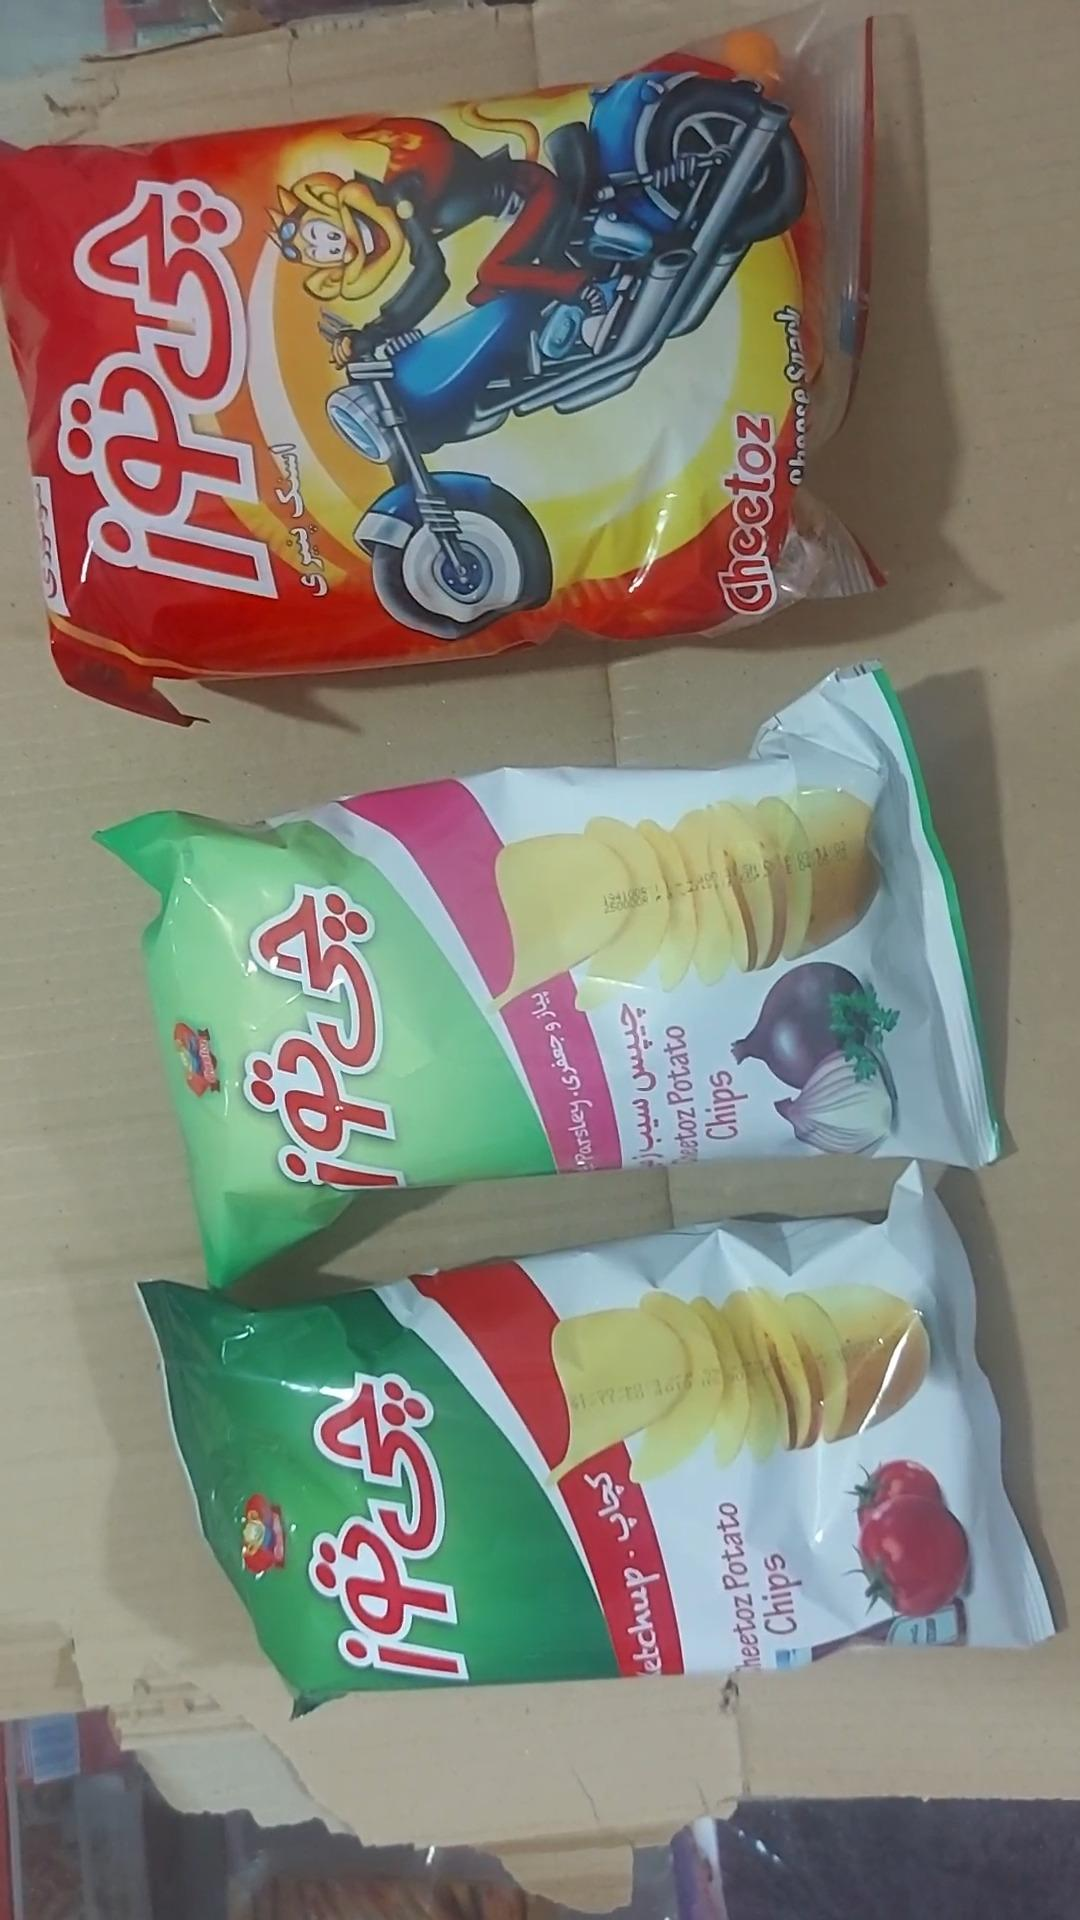Cheetoz ketchup chips: (135, 1160, 1062, 1721)
Cheetoz onion and parsley chips: (94, 663, 1013, 1291)
Cheetoz snack 90g: (0, 7, 887, 732)
